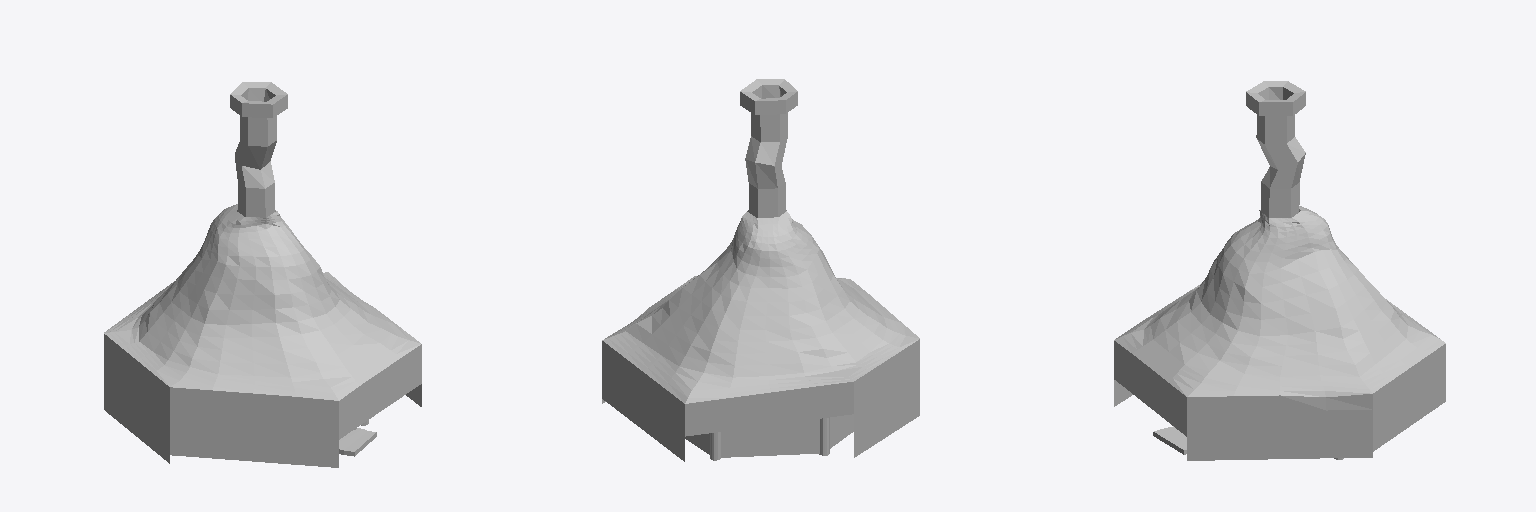
File: testHouse.obj
The picture shows the model from 3 angles: view 1: azimuth 30°, elevation 25°; view 2: azimuth 150°, elevation 25°; view 3: azimuth 270°, elevation 25°; orthographic projection.
Parts seen in each view (by area): view 1: Plane, Plane.001, Plane.002; view 2: Plane, Plane.001; view 3: Plane, Plane.001, Plane.002.
Part boxes in pixels (x1,y1,x2,y2): Plane: (104, 204, 421, 467); Plane.001: (230, 82, 287, 217); Plane.002: (339, 428, 376, 456); Plane: (602, 210, 919, 461); Plane.001: (740, 79, 797, 217); Plane: (1114, 206, 1445, 460); Plane.001: (1246, 81, 1305, 217); Plane.002: (1153, 426, 1186, 454).
Size of the model in its own units: 33.61 by 44.18 by 40.51.